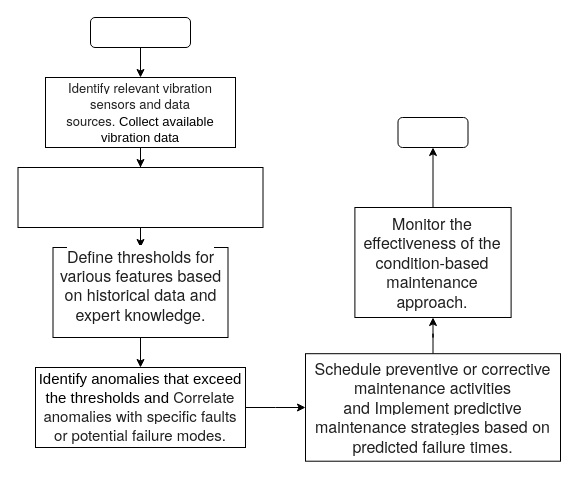
This 578x479 diagram has some shape labels left out. The centre of each missing label's shape, as x and y in pixels:
end: the point at 432,132
Extract time-domain features and Calculate frequency-domain features: the point at 140,197
start: the point at 140,32
